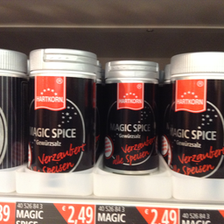spices: (28, 47, 98, 172), (170, 52, 224, 178), (104, 59, 163, 174)
